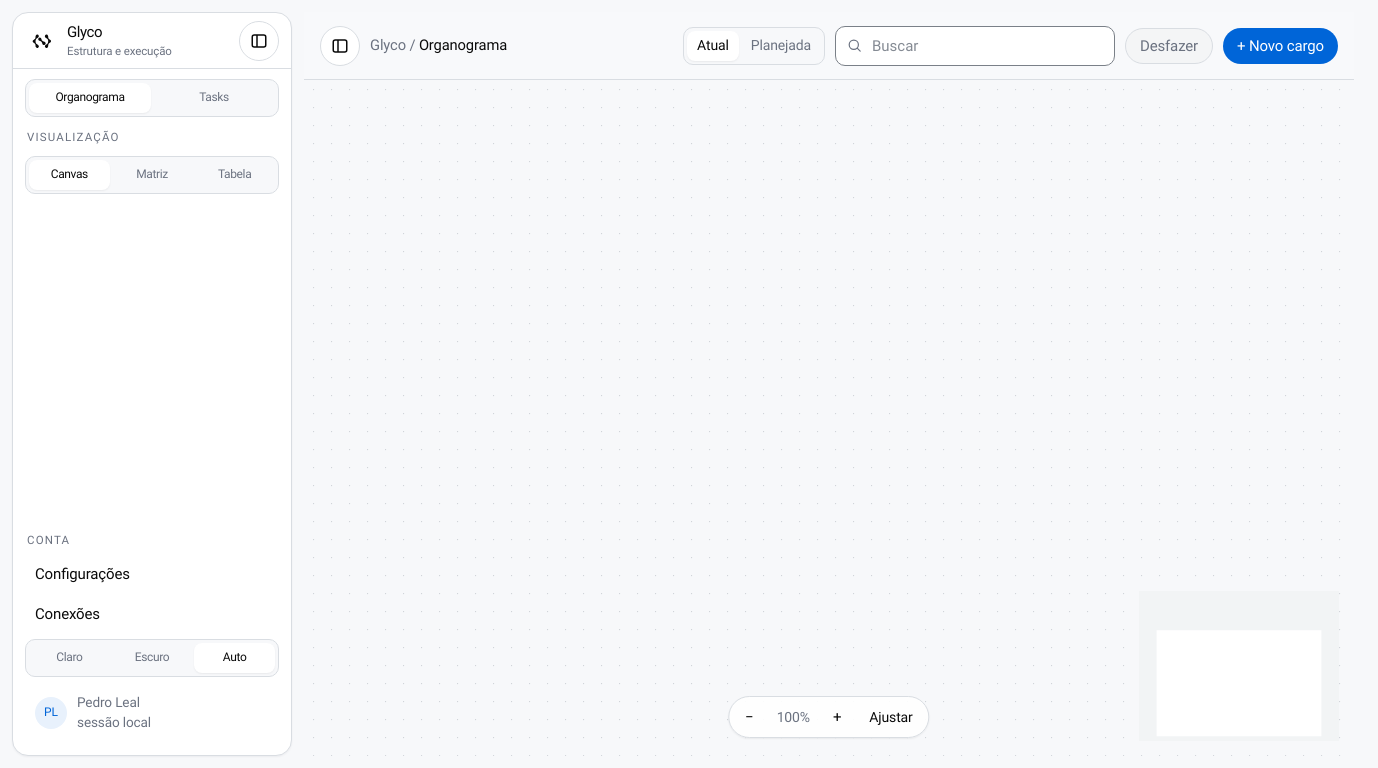
it: + Nova tarefa › abre o formulário ao clicar em "+ Nova tarefa"
Click the button "Tasks" at {"x": 214, "y": 98}, box [153,83,275,113]
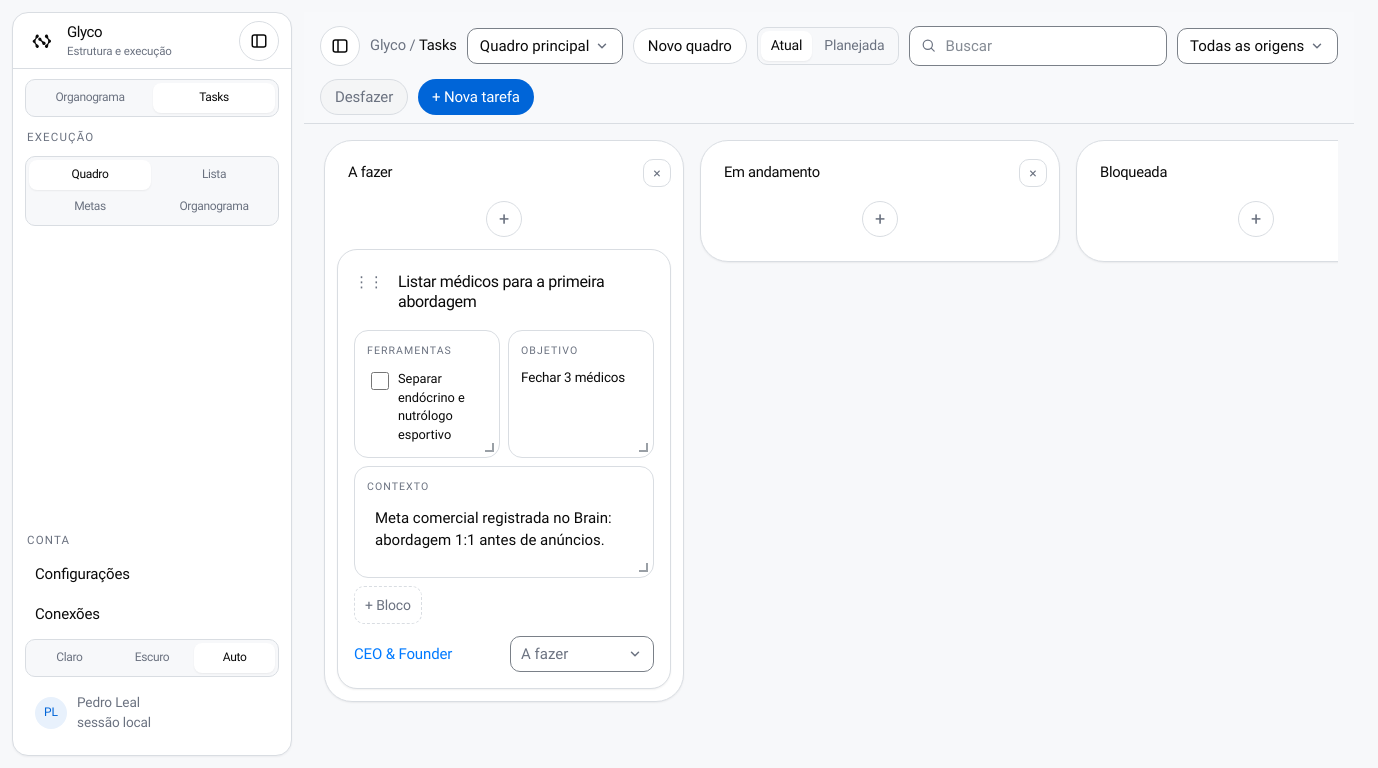
Click the button "+ Nova tarefa" at {"x": 476, "y": 97}, box [418,79,534,115]
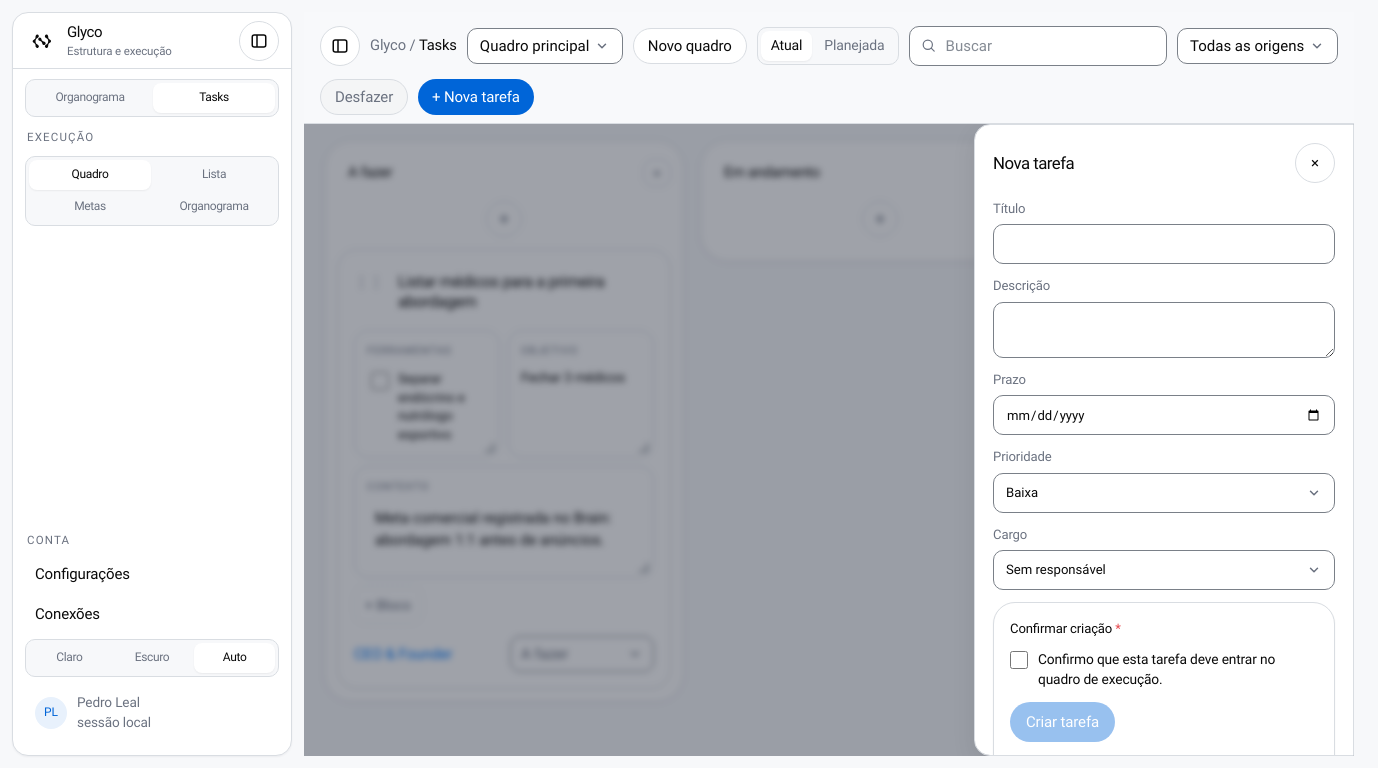
Now the form "Nova tarefa" is shown, box [974,124,1354,756]
Now the button named "Fechar formulário de nova tarefa" is shown, box [1295,143,1335,183]
